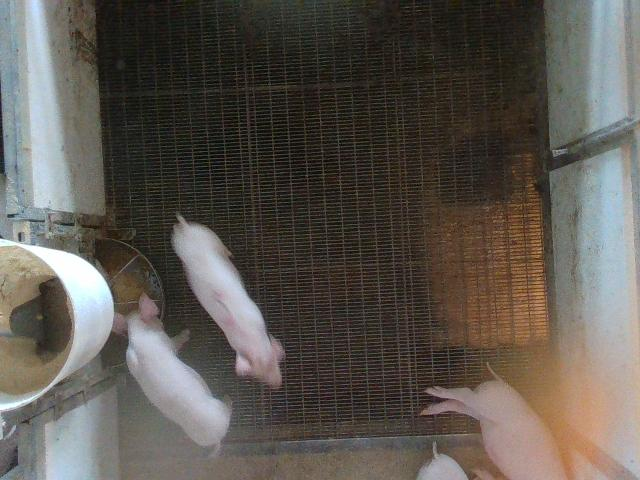pig-5: (172, 214, 285, 388)
